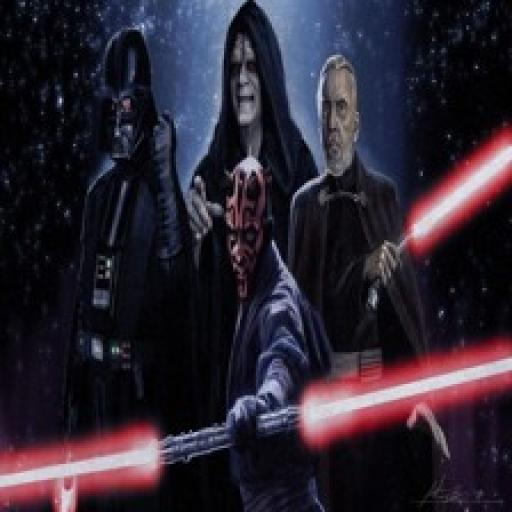human: (285, 55, 457, 512), (44, 32, 194, 512), (204, 148, 337, 512), (174, 2, 312, 274)
sith saber: (0, 340, 510, 512), (366, 136, 510, 307)
